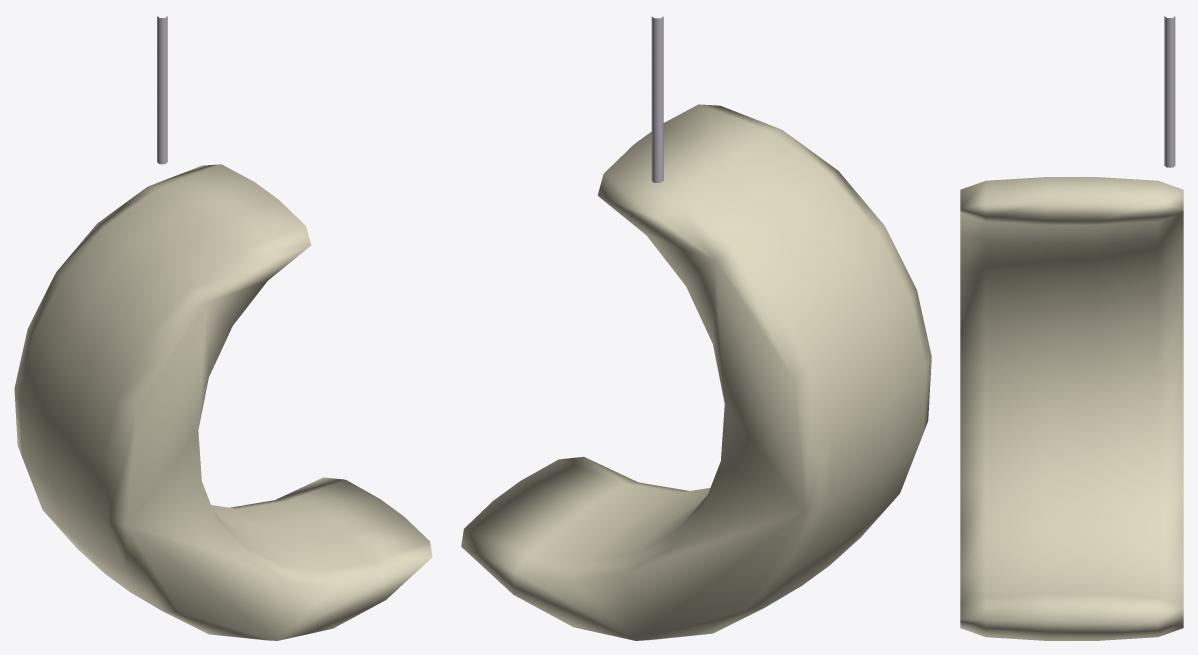
File: decor_2_classic.glb
The picture shows the model from 3 angles, left to right: view 1: azimuth 30°, elevation 25°; view 2: azimuth 150°, elevation 25°; view 3: azimuth 270°, elevation 25°; orthographic projection. The views are drawn at different scales.
Parts seen in each view (by area): view 1: decor_2_classic; view 2: decor_2_classic; view 3: decor_2_classic.
Boxes of the visible parts, x1,y1,x2,y2 form: decor_2_classic: [14, 16, 432, 640]; decor_2_classic: [461, 16, 931, 640]; decor_2_classic: [960, 16, 1183, 640].
Size of the model in its own units: 7.17 by 11.6 by 4.06.
